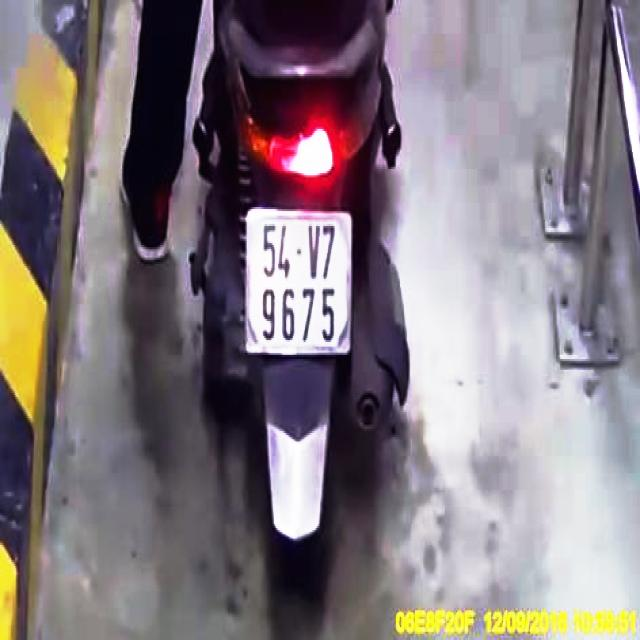license_plate: (248, 217, 352, 352)
